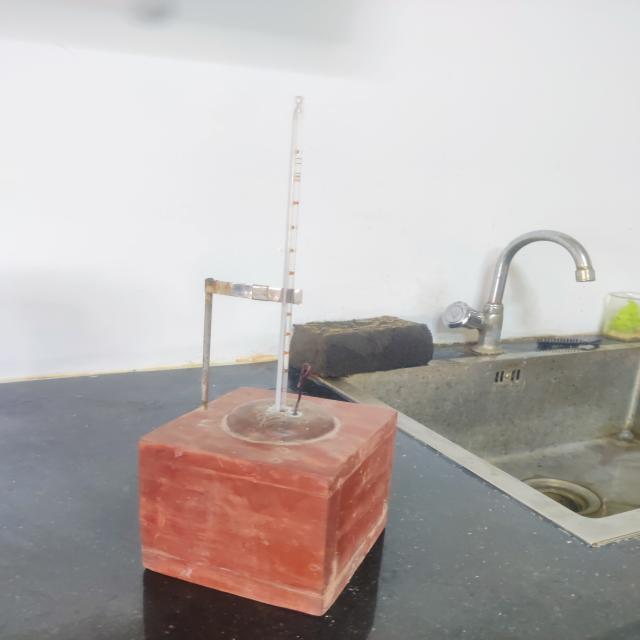Calorimeter: (96, 74, 417, 620)
